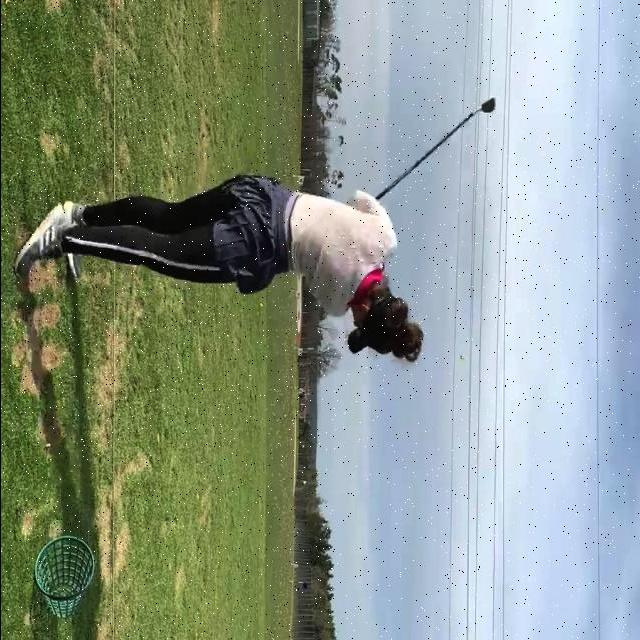golf club-handle: (374, 98, 496, 203)
golf club-head: (480, 98, 496, 114)
